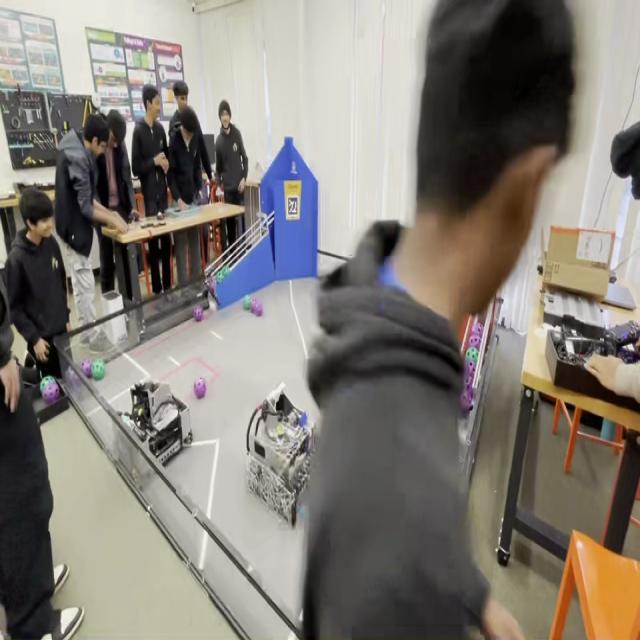artifact_green: (460, 389, 472, 418), (64, 367, 79, 388), (92, 360, 105, 381), (40, 376, 56, 393), (466, 348, 479, 365), (206, 275, 216, 297), (469, 335, 481, 349), (254, 302, 263, 317), (120, 414, 131, 426), (243, 295, 251, 311), (277, 422, 285, 437), (217, 270, 225, 282), (250, 299, 257, 312), (216, 272, 224, 283), (43, 376, 56, 382), (223, 266, 230, 277), (215, 272, 221, 283), (138, 407, 143, 417), (220, 267, 225, 276), (221, 270, 226, 279), (218, 266, 224, 273), (221, 265, 227, 272), (221, 274, 225, 283), (223, 272, 227, 279), (227, 267, 231, 274)
artifact_purple: (42, 382, 60, 405), (460, 390, 472, 417), (65, 367, 79, 388), (194, 379, 206, 399), (466, 348, 479, 366), (80, 360, 92, 378), (207, 275, 216, 296), (465, 361, 475, 378), (469, 335, 481, 348), (472, 323, 483, 337), (194, 305, 203, 322), (254, 302, 263, 317), (464, 377, 473, 389), (250, 299, 257, 314)
